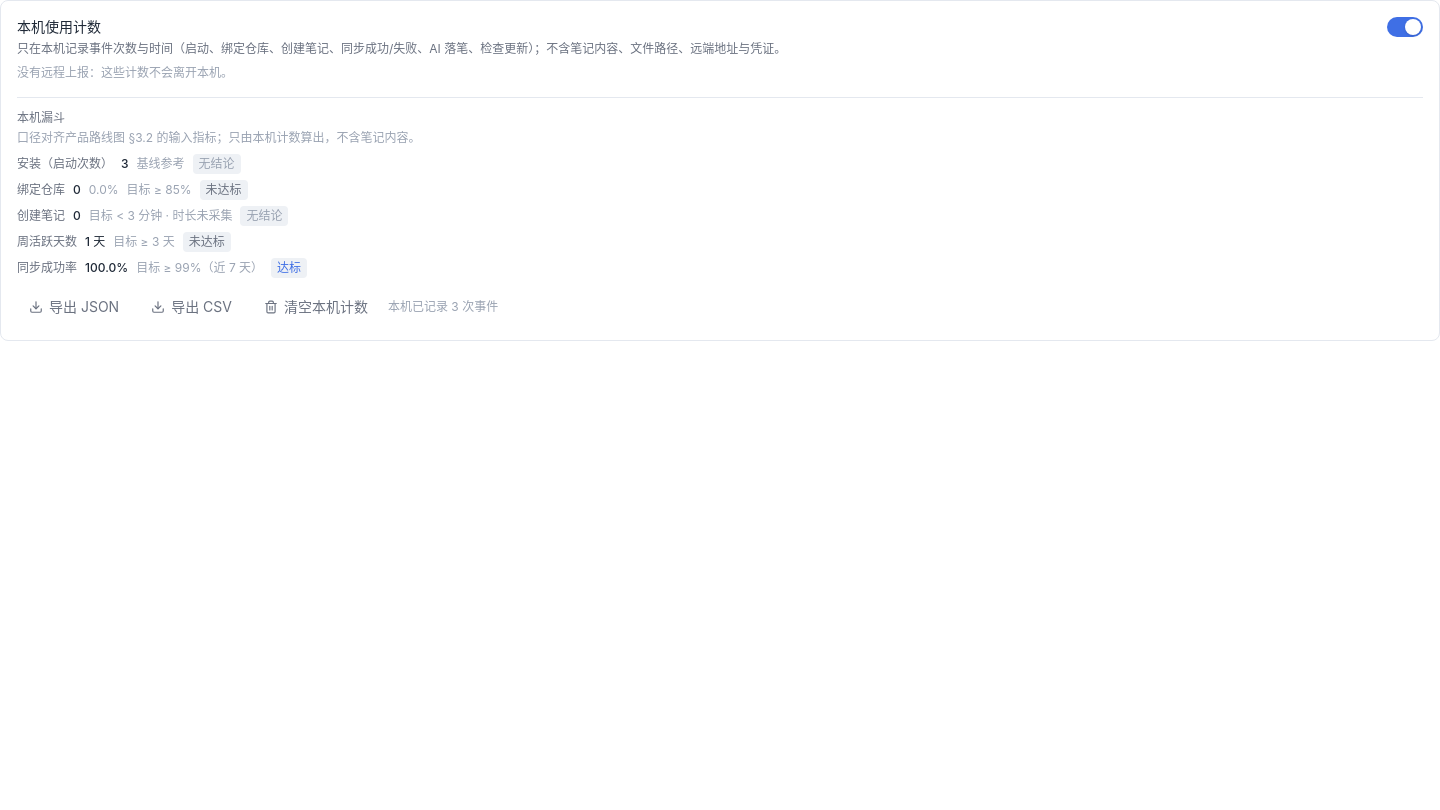
MetricsCard › 取消确认时不清空
This screenshot has width=1440, height=810.
Check: the text "本机已记录 3 次事件" is shown, box [388,299,498,315]
Click the button "清空本机计数" at (316, 307), box [252,290,380,324]
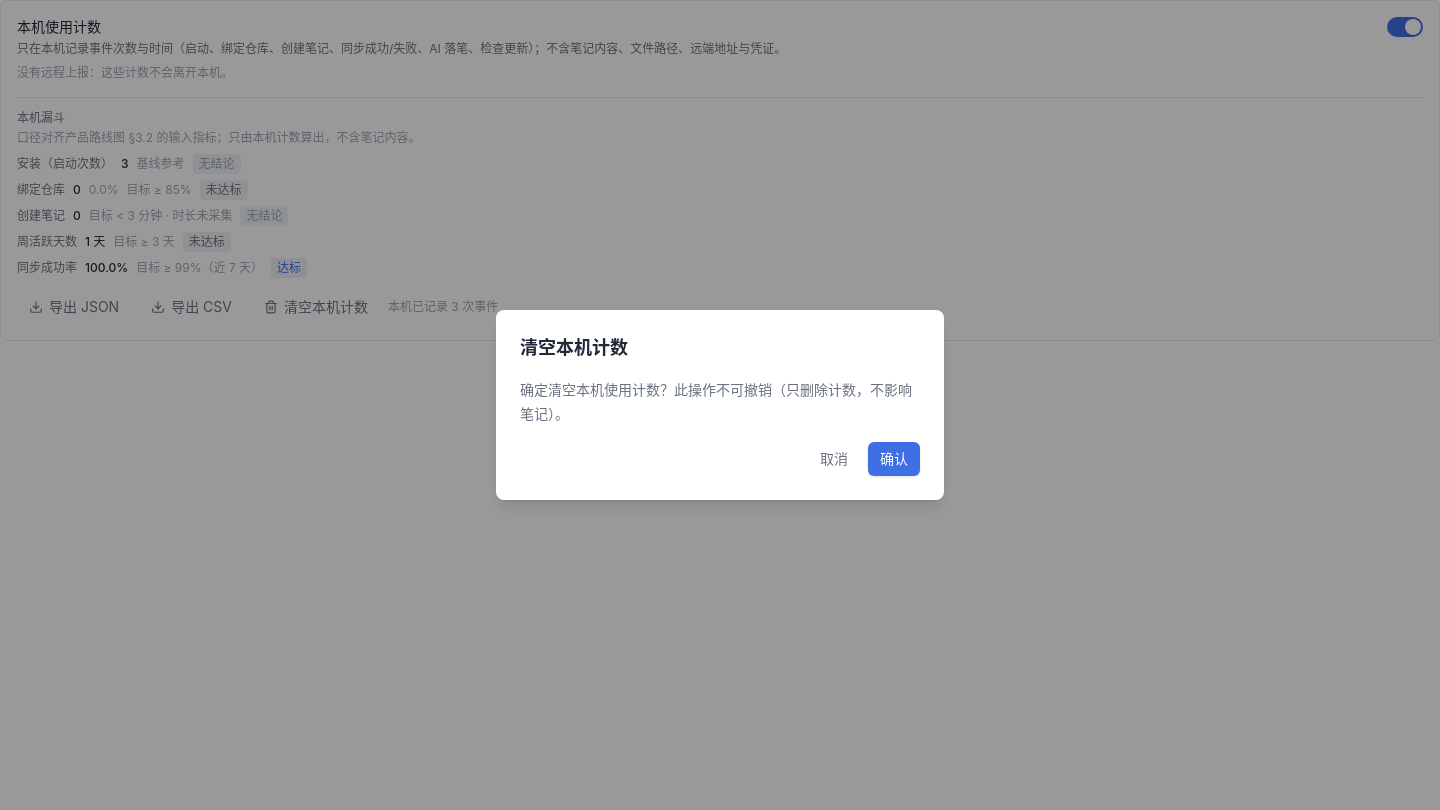
Click the button "取消" at (834, 459), box [808,442,860,476]
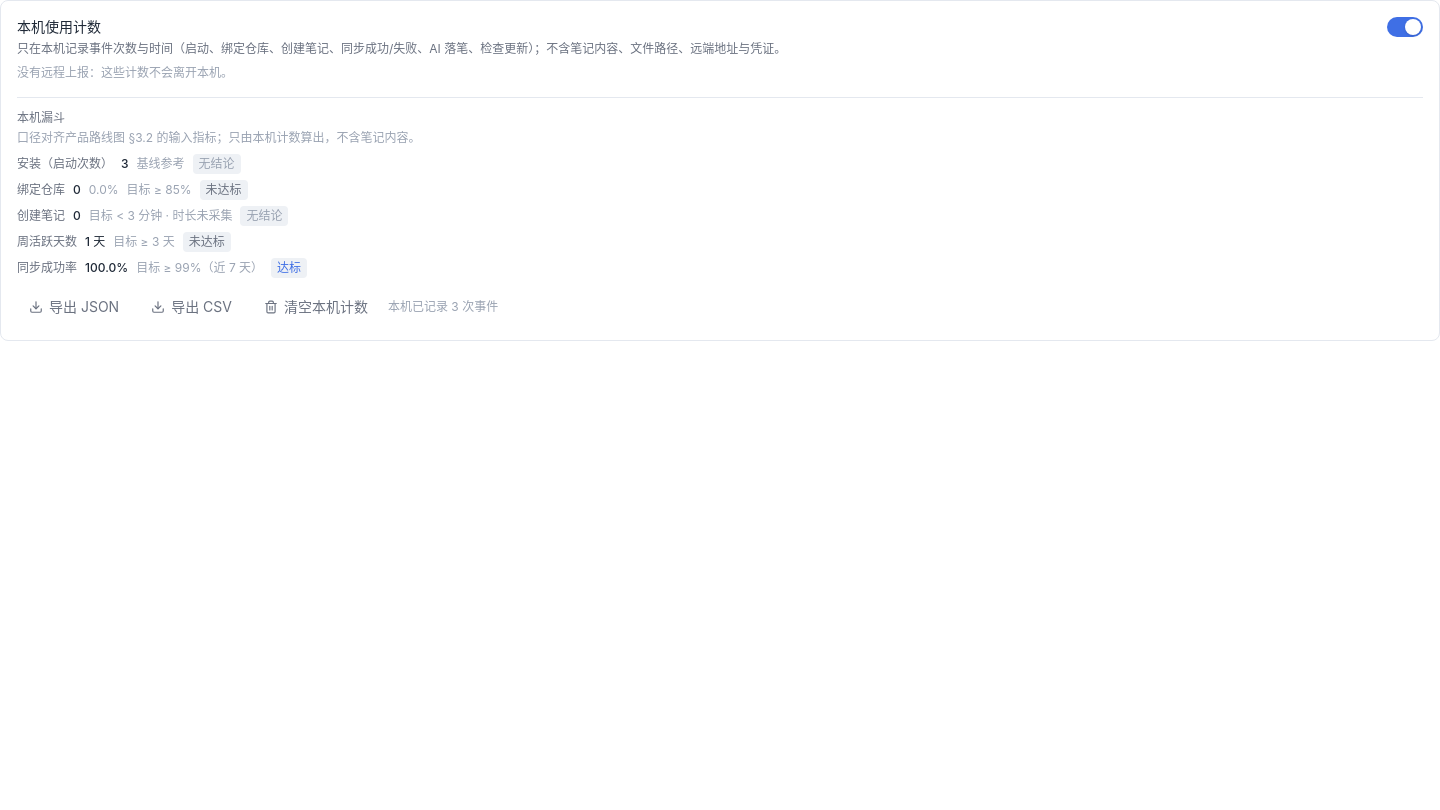
Check: the dialog is gone
